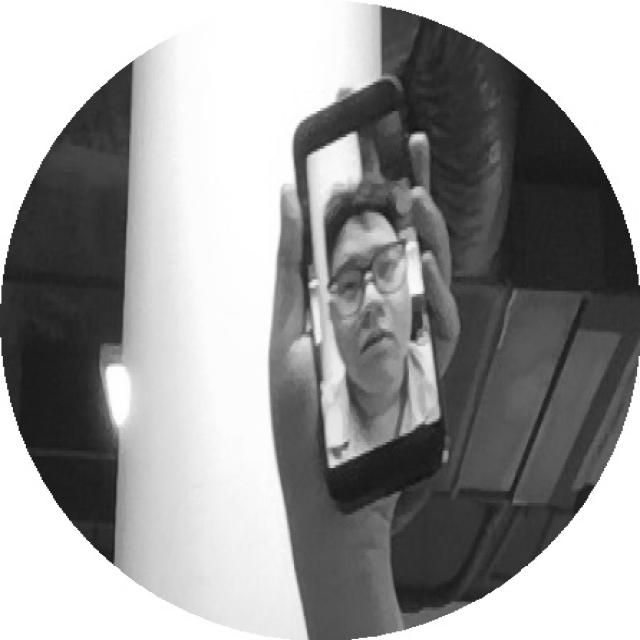fake: (261, 67, 488, 529), (286, 73, 472, 521)
